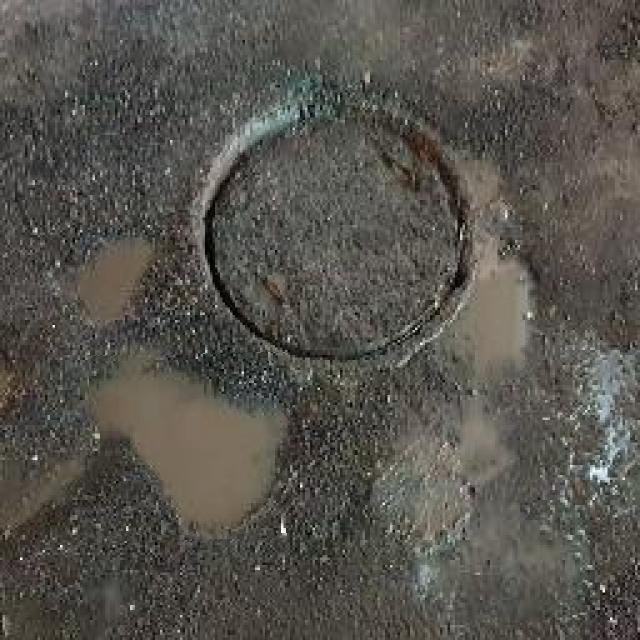puddle: (89, 354, 292, 544)
